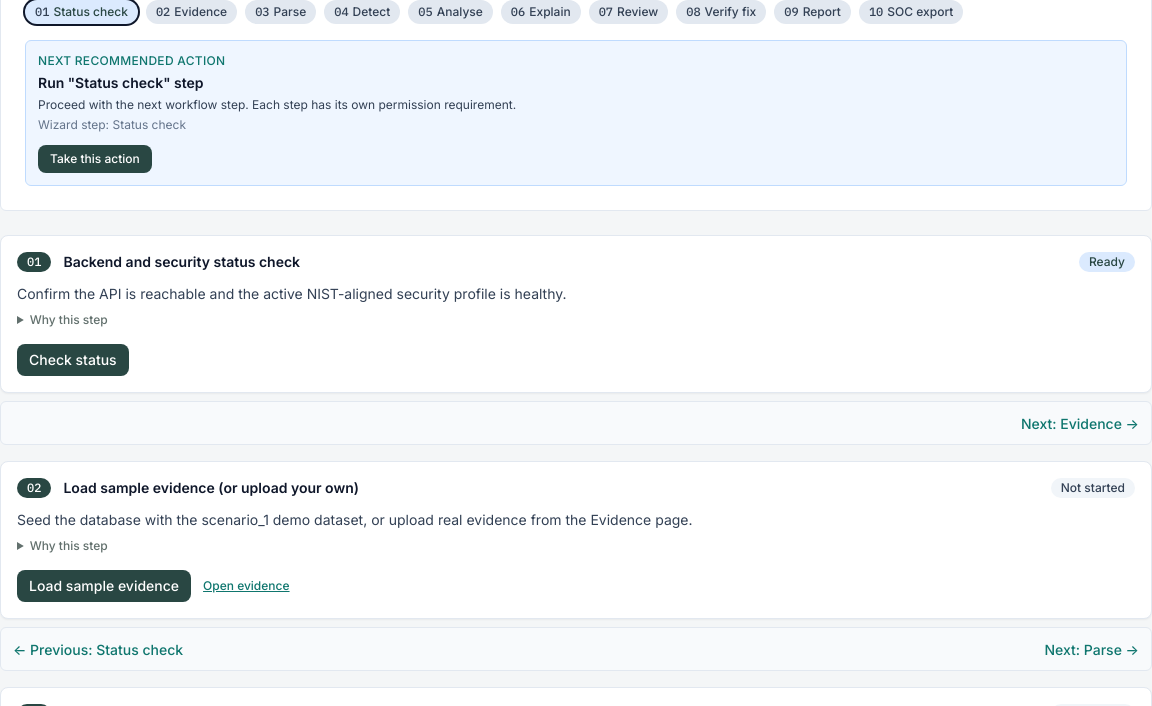
Test: InvestigationWizard › surfaces backend disconnected state on status check failure
The width and height of the screenshot is (1152, 706).
(page scrolled)
Click the button "Check status": (73, 360) top-left (17, 344), bottom-right (129, 376)
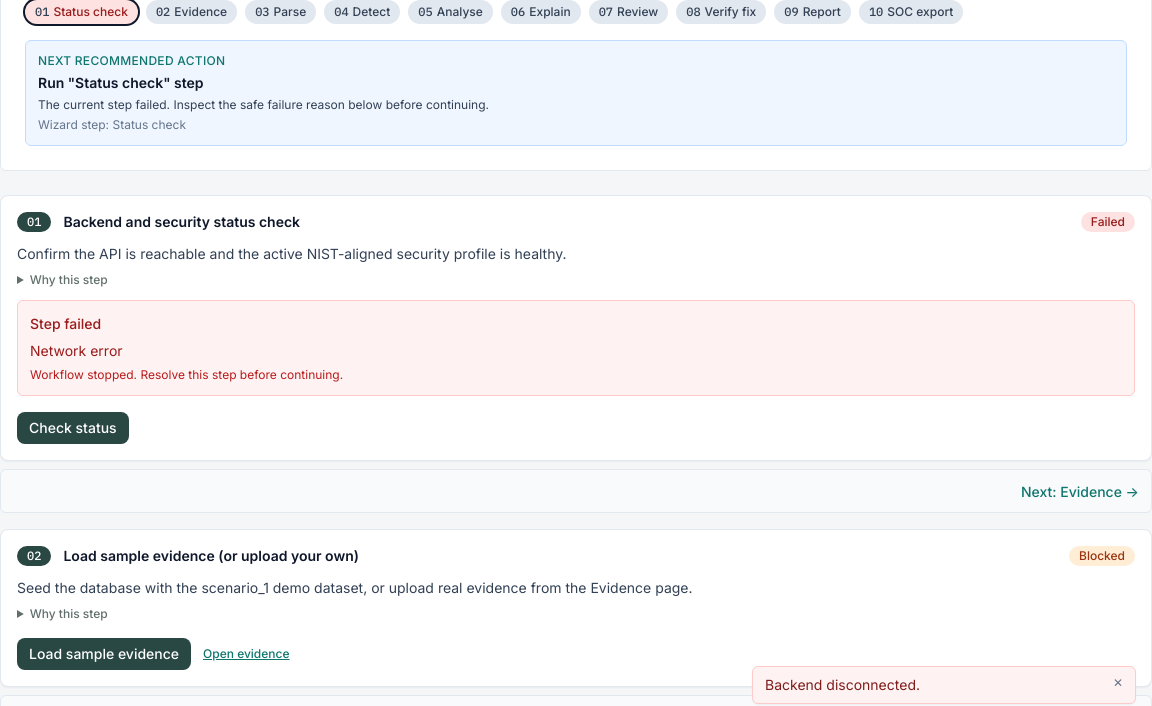
Check: the text "Failed" is shown, box top-left (1081, 212), bottom-right (1135, 232)
Check: the text "Network error" is shown, box top-left (30, 342), bottom-right (123, 359)
